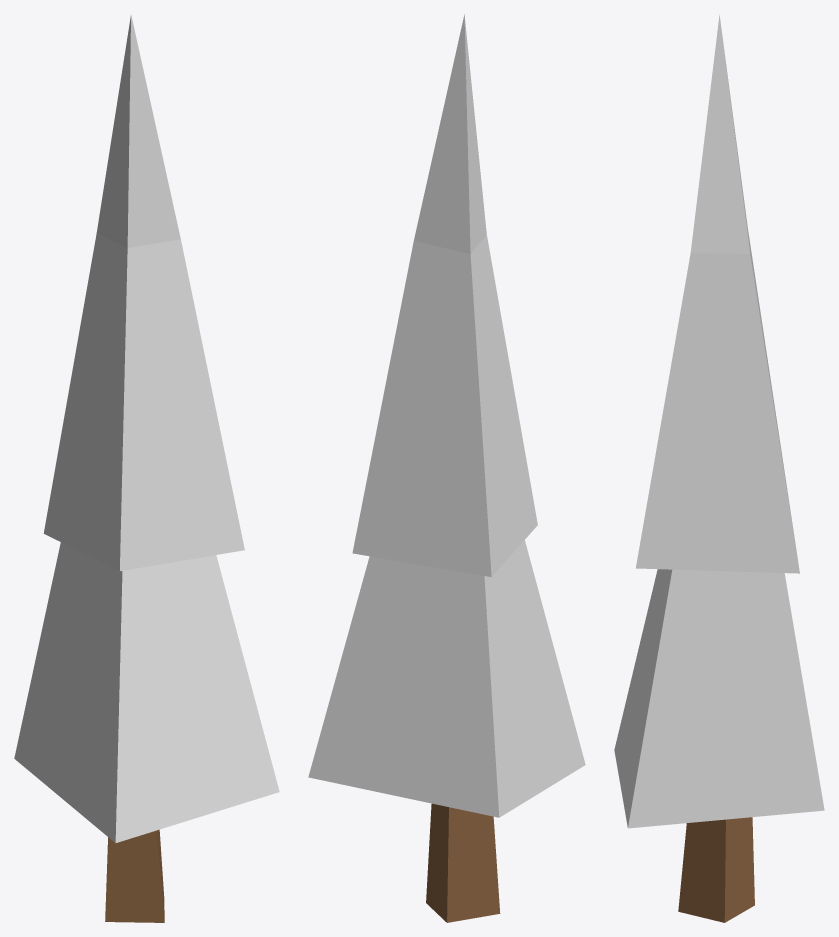
File: Fir_Tree_OneSided_s_Snow_07_LOD.fbx
The picture shows the model from 3 angles, left to right: view 1: azimuth 30°, elevation 25°; view 2: azimuth 150°, elevation 25°; view 3: azimuth 270°, elevation 25°; orthographic projection.
Parts seen in each view (by area): view 1: Fir_Tree_OneSided_s_Snow_07_LOD0; view 2: Fir_Tree_OneSided_s_Snow_07_LOD0; view 3: Fir_Tree_OneSided_s_Snow_07_LOD0.
Boxes of the visible parts, x1,y1,x2,y2 form: Fir_Tree_OneSided_s_Snow_07_LOD0: (14, 14, 279, 922); Fir_Tree_OneSided_s_Snow_07_LOD0: (308, 14, 585, 922); Fir_Tree_OneSided_s_Snow_07_LOD0: (614, 14, 824, 922).
Size of what is drawn, in the model's own units: 33.97 by 162 by 34.71.
